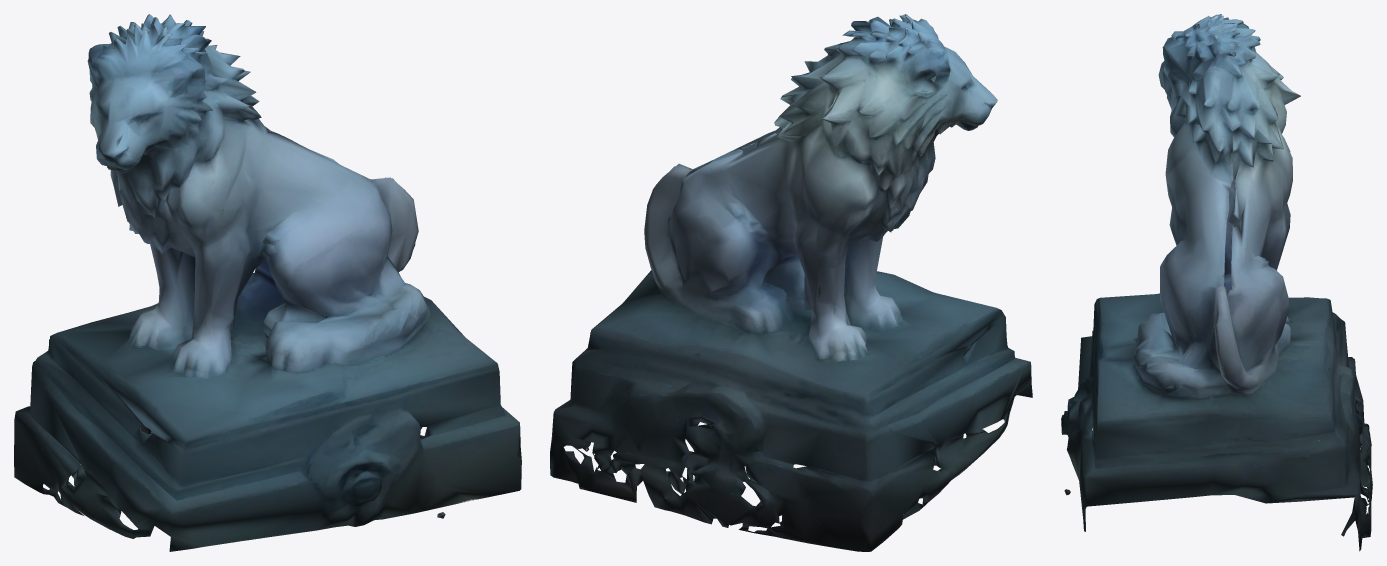
File: AsuraGuardianLion_LOD1.glb
3 renders of one model, left to right at view 1: azimuth 30°, elevation 25°; view 2: azimuth 150°, elevation 25°; view 3: azimuth 270°, elevation 25°, orthographic. The views are drawn at different scales.
Parts seen in each view (by area): view 1: geometry_0; view 2: geometry_0; view 3: geometry_0.
Part boxes in pixels (bbox=[...]): geometry_0: bbox=[14, 14, 521, 551]; geometry_0: bbox=[550, 14, 1032, 551]; geometry_0: bbox=[1061, 14, 1372, 551].
Bounding box in the file's own units: 0.7639 × 1 × 0.6726.
1 material, 1 textured.
